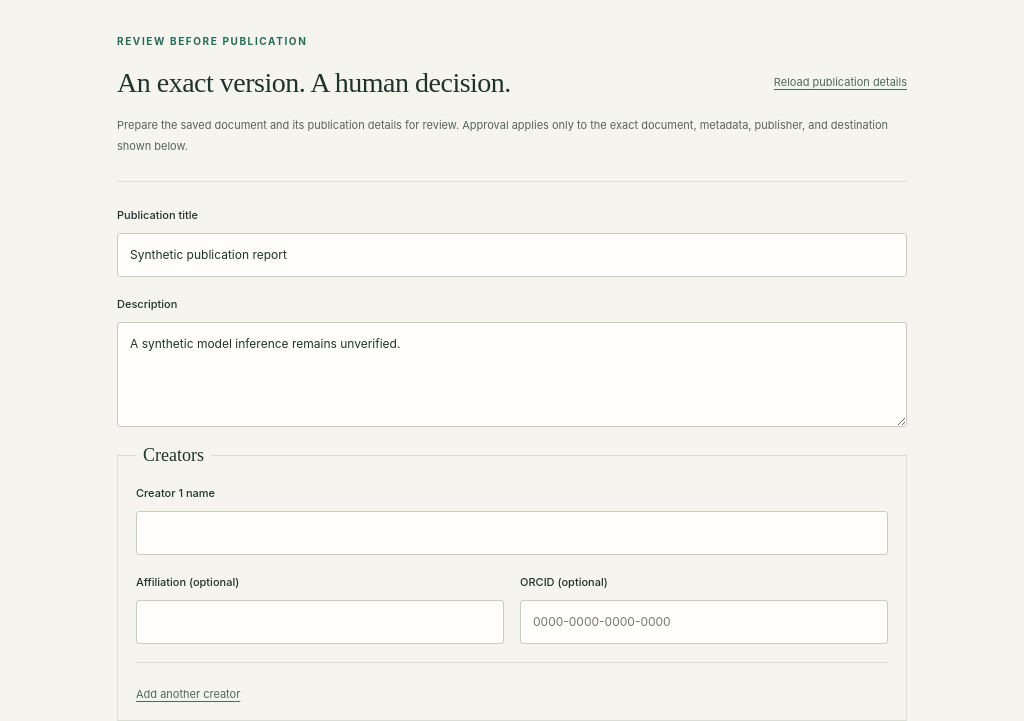
human approval of exact saved publication versions › shows production distinctly and never selects it implicitly when sandbox is unavailable
The width and height of the screenshot is (1024, 721).
Type "Synthetic Creator" into the field labelled "Creator 1 name" at (512, 533), box [136,511,888,555]
(page scrolled)
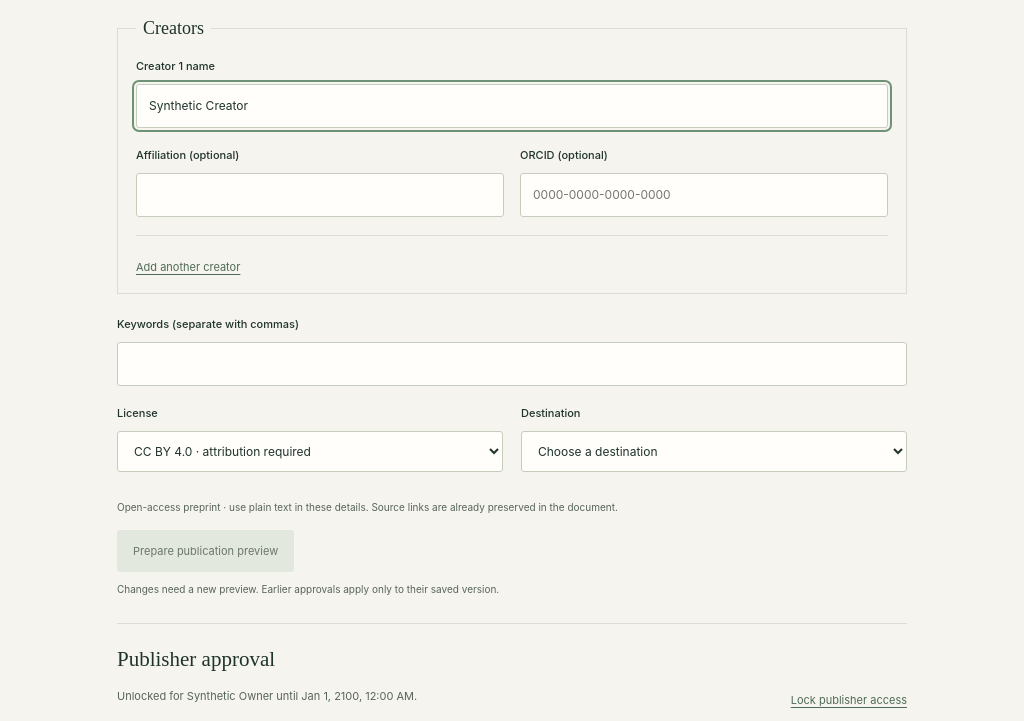
Expected: the button "Prepare publication preview" is disabled, [117,530,294,572]
Select "Zenodo production · public record" in the dropdown labelled "Destination" at (714, 452), box [521,431,907,472]
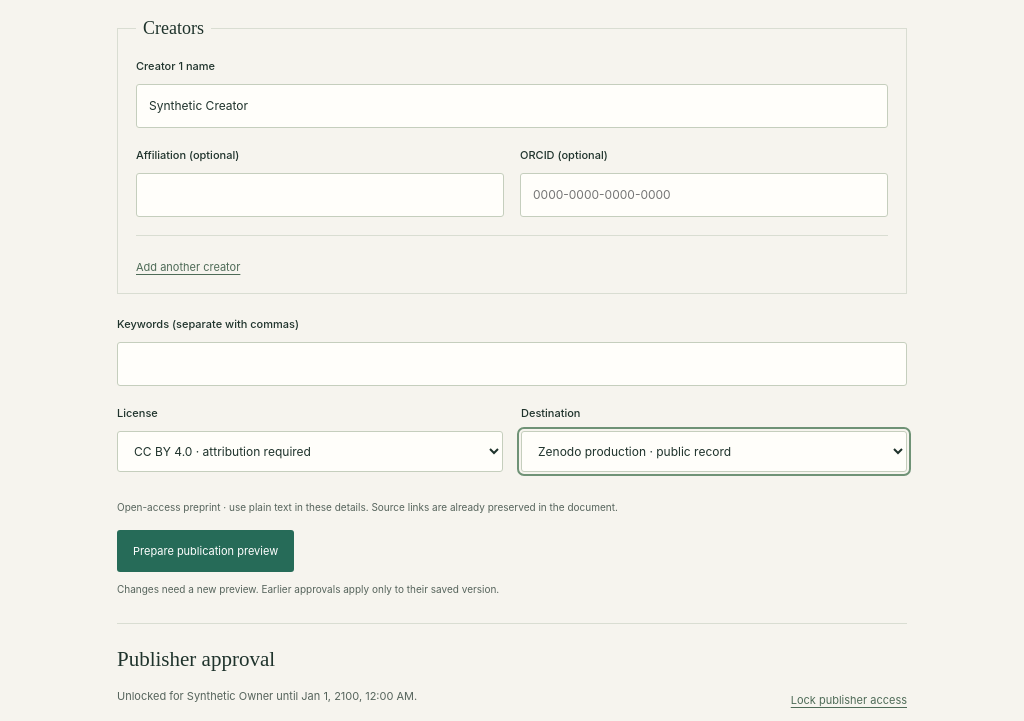
Click the button "Prepare publication preview" at (206, 551), box [117,530,294,572]
(page scrolled)
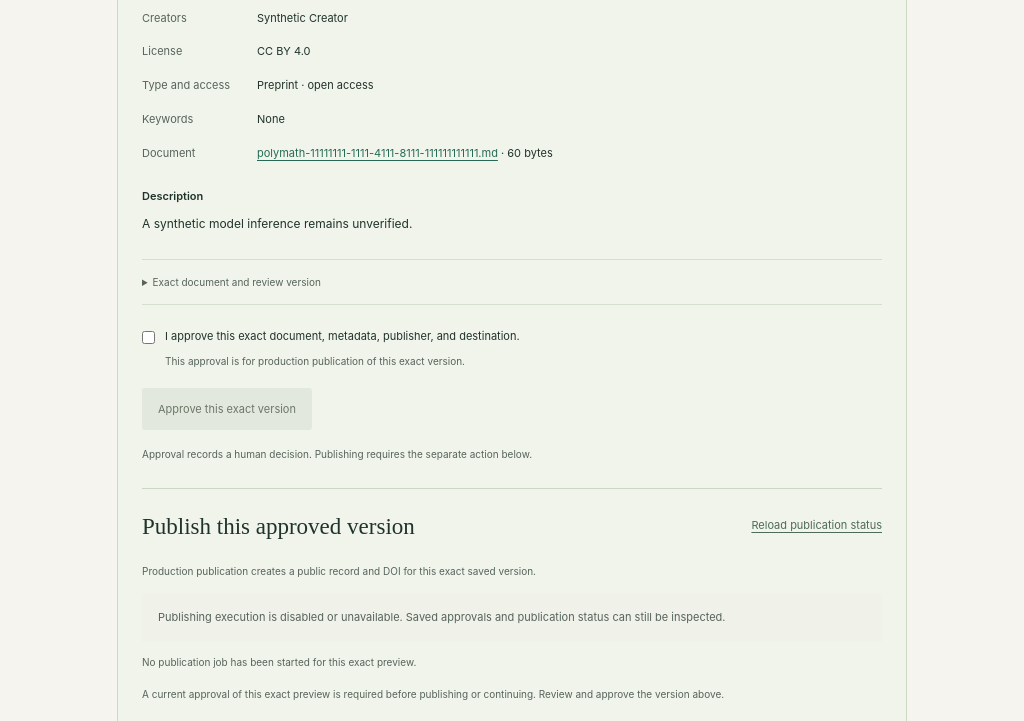
Expected: the text "This approval is for production publication of this exact version." is shown, [165,355,465,367]
Expected: the checkbox labelled "I approve this exact document, metadata, publisher, and destination" is not checked, [142,331,155,344]
